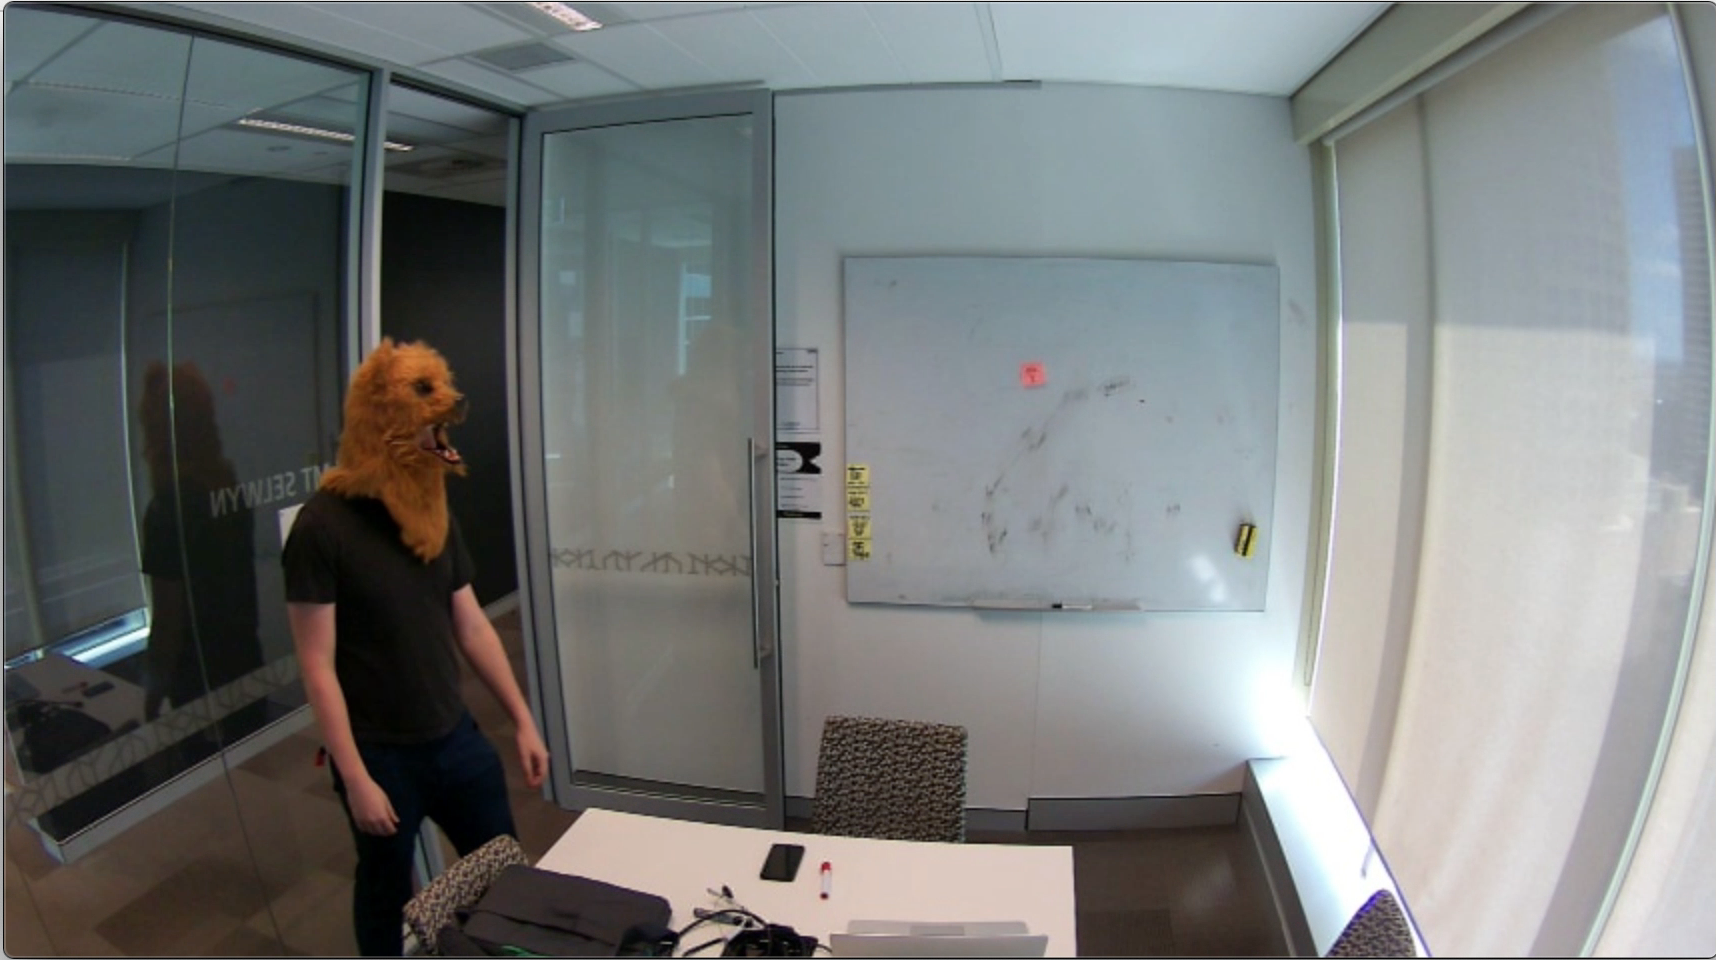Bear: (334, 336, 474, 496)
